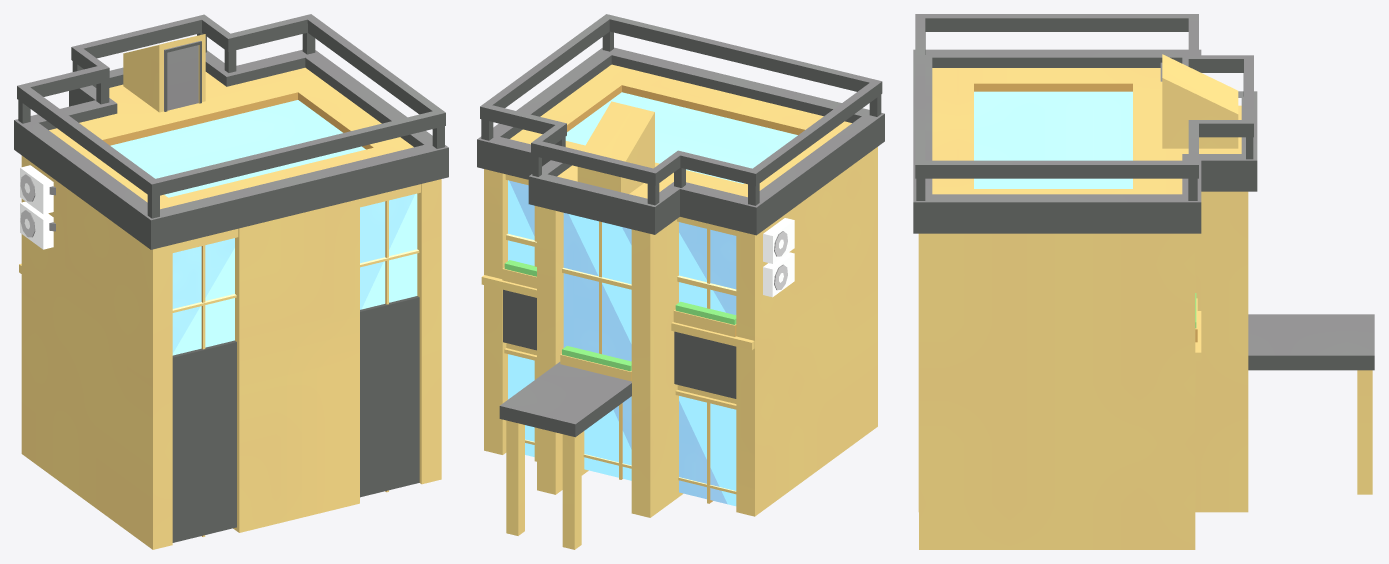
Rendered from hotel.glb.
The picture shows the model from 3 angles, left to right: view 1: azimuth 30°, elevation 25°; view 2: azimuth 150°, elevation 25°; view 3: azimuth 270°, elevation 25°; orthographic projection. The views are drawn at different scales.
Visible parts, largest first — view 1: hotel(Clone); view 2: hotel(Clone); view 3: hotel(Clone).
Part boxes in pixels (x1,y1,x2,y2): hotel(Clone): (14, 14, 448, 549); hotel(Clone): (477, 14, 884, 549); hotel(Clone): (913, 14, 1374, 549).
Bounding box in the file's own units: 6.1 × 7.55 × 7.61.
Materials: 1 (1 with a texture image).
